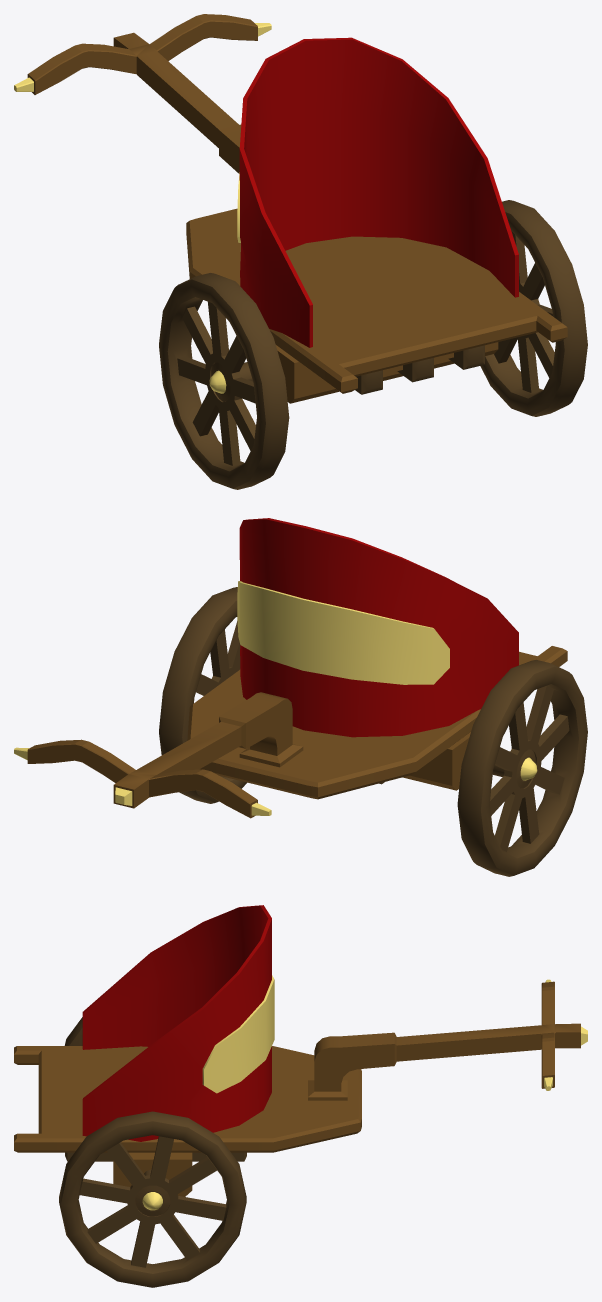
The model's file is Chariot.fbx.
3 views of the same model, one above another, from view 1: azimuth 30°, elevation 25°; view 2: azimuth 150°, elevation 25°; view 3: azimuth 270°, elevation 25° (orthographic). The views are drawn at different scales.
Parts seen in each view (by area): view 1: Cube.007, Cylinder.006, Cylinder.008, Cylinder.007; view 2: Cube.007, Cylinder.007, Cylinder.006, Cylinder.008; view 3: Cube.007, Cylinder.008.
Part boxes in pixels (x1,y1,x2,y2): Cube.007: (14, 14, 567, 403); Cylinder.006: (159, 277, 289, 489); Cylinder.008: (480, 200, 587, 416); Cylinder.007: (176, 273, 267, 470); Cube.007: (14, 518, 567, 818); Cylinder.007: (457, 660, 578, 876); Cylinder.006: (481, 659, 587, 875); Cylinder.008: (159, 587, 246, 803); Cube.007: (14, 905, 587, 1196); Cylinder.008: (59, 1111, 246, 1287).
Bounding box in the file's own units: 682 × 398 × 384.
